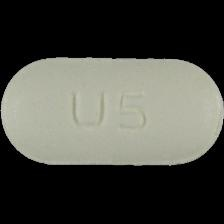10544-555: (0, 0, 224, 224)
